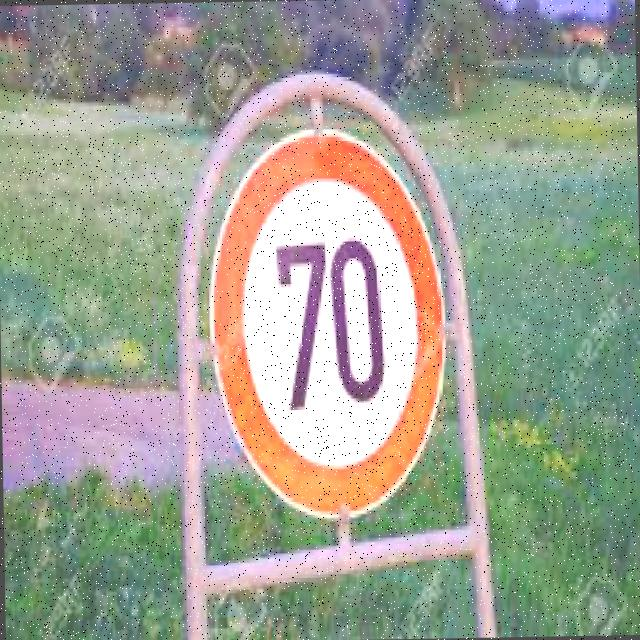Ograniczenie predkosci do 70: (205, 124, 452, 524)
